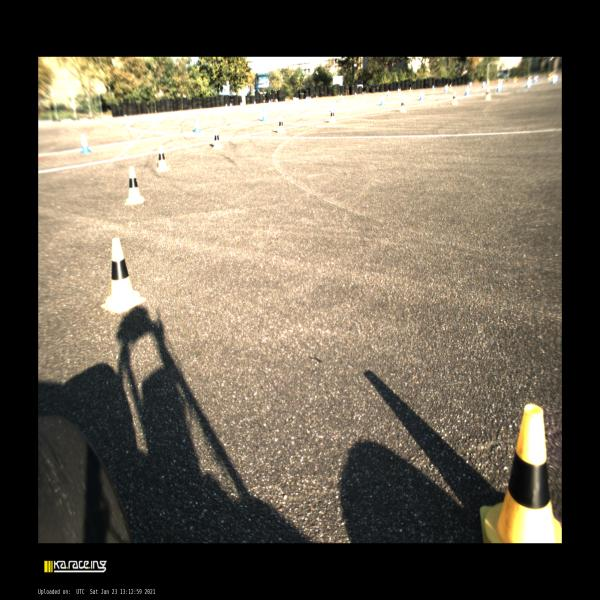blue_cone: (79, 133, 91, 152), (193, 117, 200, 133), (261, 108, 268, 121), (329, 100, 335, 112), (380, 95, 386, 105), (526, 78, 532, 88), (465, 86, 470, 96), (496, 82, 501, 92), (420, 91, 424, 100), (534, 75, 537, 83), (340, 93, 343, 100), (444, 85, 447, 92), (482, 81, 485, 88), (309, 95, 312, 101), (387, 90, 390, 96), (354, 92, 357, 97), (432, 85, 435, 90), (230, 102, 232, 109), (268, 99, 270, 106), (254, 100, 256, 106), (276, 99, 278, 105), (225, 103, 227, 108), (240, 102, 242, 107), (305, 97, 307, 102), (398, 88, 400, 93), (470, 82, 472, 87), (364, 90, 366, 94)
yellow_cone: (480, 405, 562, 543), (100, 238, 146, 313), (124, 166, 144, 204), (156, 144, 170, 172), (212, 128, 222, 149), (277, 115, 287, 134), (328, 108, 337, 124), (451, 90, 459, 105), (399, 99, 406, 112), (486, 86, 491, 100), (486, 79, 490, 86), (497, 79, 501, 86), (449, 84, 452, 92), (548, 74, 551, 80), (409, 87, 412, 92), (514, 76, 516, 83), (307, 96, 309, 100), (362, 91, 364, 95), (399, 88, 401, 92), (316, 95, 317, 99)
